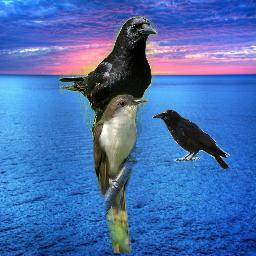Crow: (59, 16, 158, 137), (152, 109, 230, 169)
Cuckoo: (93, 89, 148, 253)
